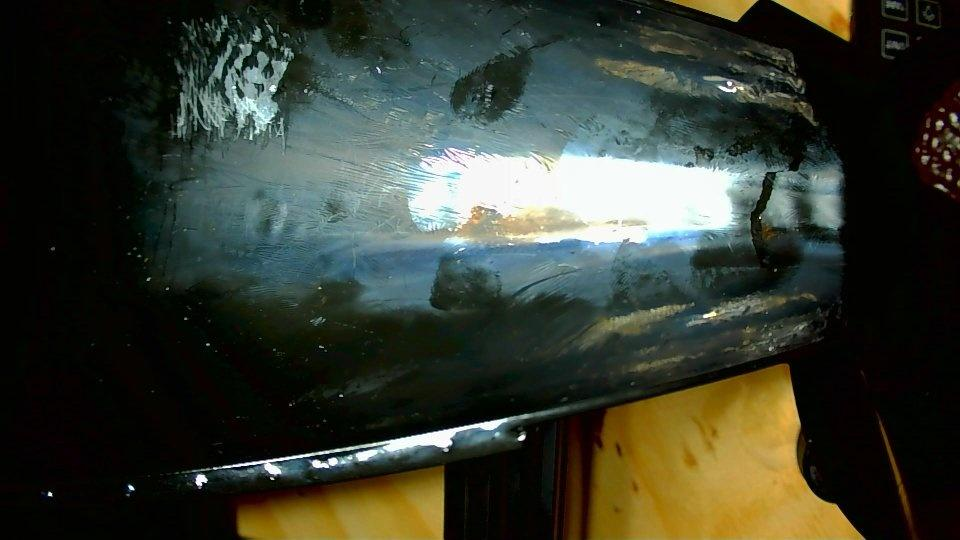berry: (912, 82, 959, 201)
